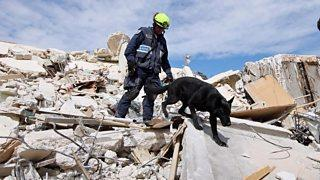victim: (112, 12, 174, 128)
